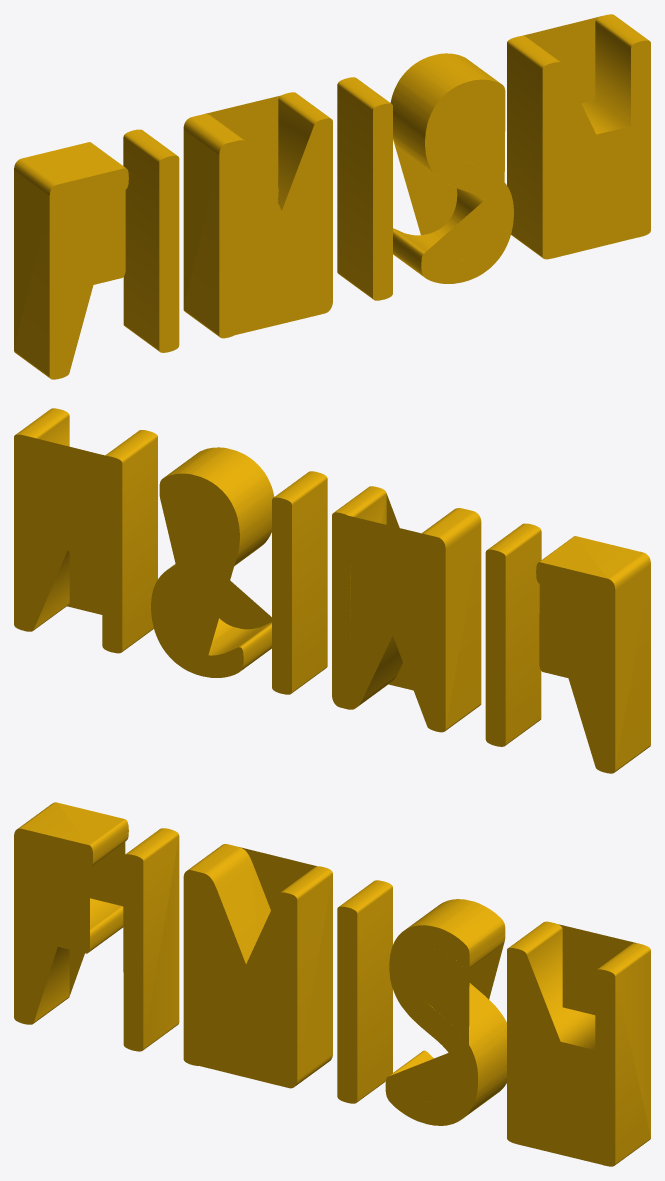
Rendered from Finished.fbx.
3 views of the same model, one above another, from view 1: azimuth 30°, elevation 25°; view 2: azimuth 150°, elevation 25°; view 3: azimuth 330°, elevation 25° (orthographic).
Parts seen in each view (by area): view 1: Text.001; view 2: Text.001; view 3: Text.001.
Boxes of the visible parts, box(x1,y1,x2,y2) form: Text.001: box(14, 14, 650, 379); Text.001: box(14, 408, 650, 773); Text.001: box(14, 802, 650, 1166).
Bounding box in the file's own units: 15.41 × 47.44 × 150.
